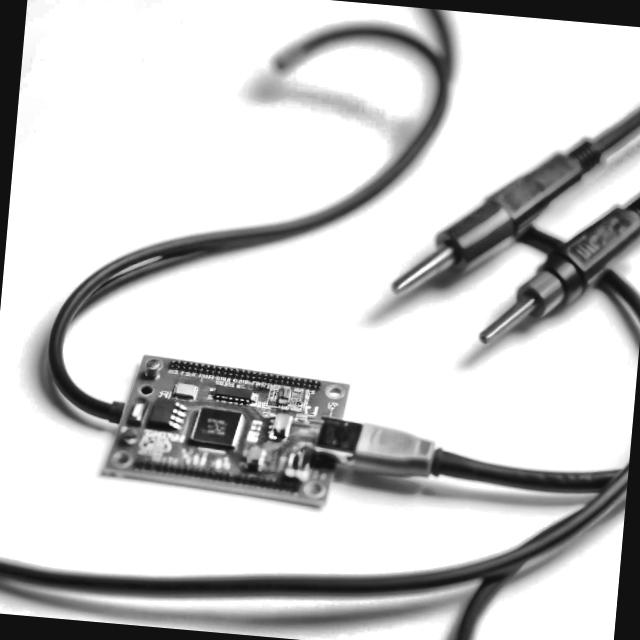Cable: (48, 0, 640, 388), (334, 384, 633, 640), (0, 536, 331, 637)
PCB: (100, 343, 354, 518)
